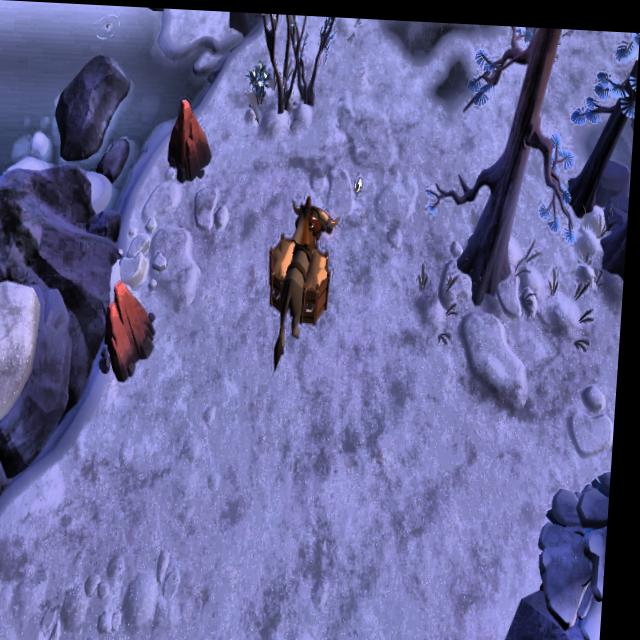rock_t5: (105, 271, 169, 385), (169, 91, 219, 185)
